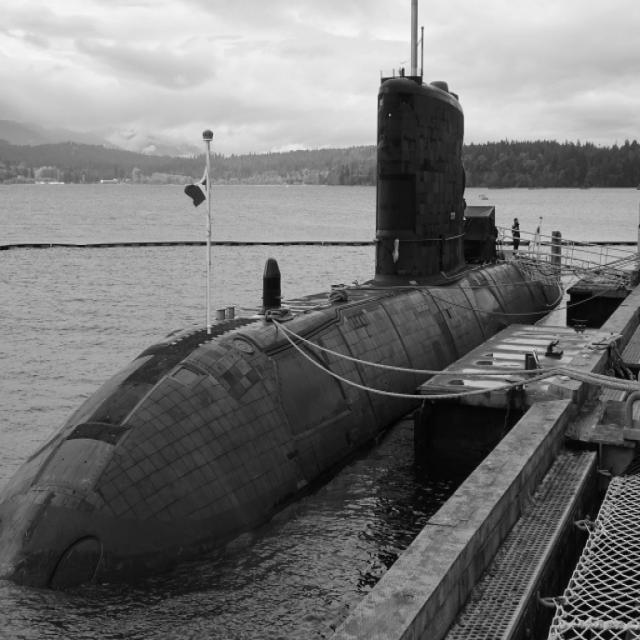submarine: (1, 72, 564, 555)
